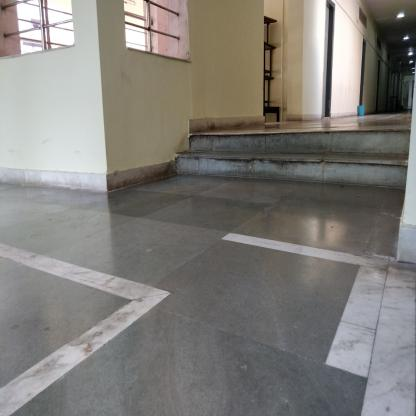stairs: (192, 128, 406, 187)
